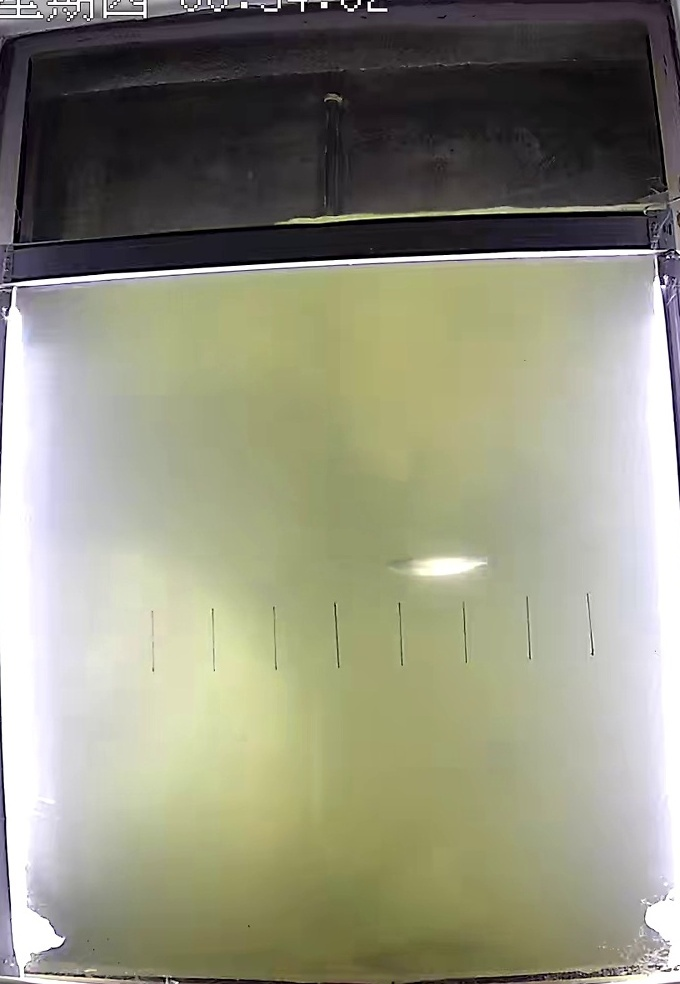fish: (381, 546, 489, 582)
